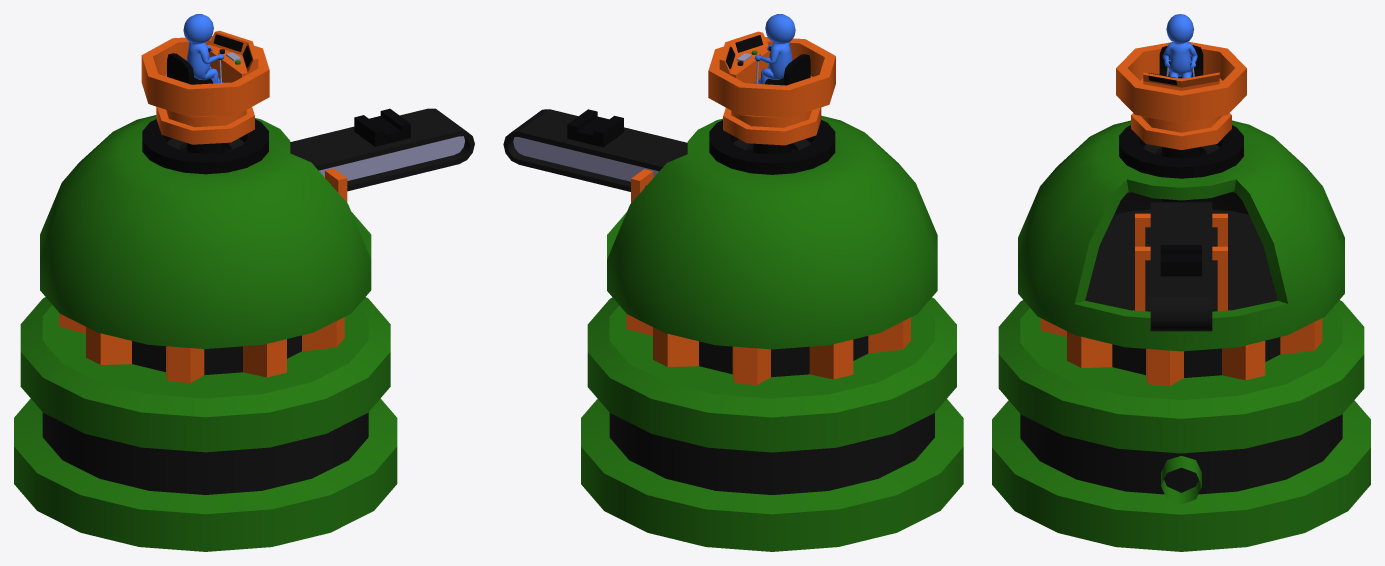
3 views of the same model, side by side, from view 1: azimuth 30°, elevation 25°; view 2: azimuth 150°, elevation 25°; view 3: azimuth 270°, elevation 25° (orthographic).
Parts seen in each view (by area): view 1: post grinder, post harvester, post operator, post gear, transporter 2, transporter 1, bot002, magnet, transporter last; view 2: post grinder, post harvester, post operator, post gear, transporter 2, transporter 1, bot002, magnet, transporter last; view 3: post grinder, post harvester, post operator, post gear, transporter 1, transporter last, transporter 2, bot002, magnet, grinder base.
Part boxes in pixels (x1,y1,x2,y2): post grinder: (14, 297, 397, 551); post harvester: (40, 115, 371, 348); post operator: (141, 30, 269, 153); post gear: (59, 313, 344, 382); transporter 2: (331, 108, 459, 187); transporter 1: (290, 132, 361, 191); bot002: (183, 14, 224, 83); magnet: (354, 108, 410, 146); transporter last: (429, 108, 474, 163); post grinder: (581, 297, 963, 551); post harvester: (607, 115, 937, 349); post operator: (708, 31, 835, 154); post gear: (626, 314, 910, 384); transporter 2: (519, 109, 646, 188); transporter 1: (616, 133, 687, 191); bot002: (753, 14, 795, 84); magnet: (567, 109, 623, 147); transporter last: (503, 109, 549, 164); post grinder: (992, 300, 1370, 551); post harvester: (1018, 120, 1344, 351); post operator: (1116, 41, 1246, 201); post gear: (1040, 318, 1322, 385); transporter 1: (1150, 203, 1212, 250); transporter last: (1150, 297, 1212, 331); transporter 2: (1150, 250, 1212, 297); bot002: (1162, 14, 1197, 78); magnet: (1160, 245, 1201, 276); grinder base: (1161, 456, 1201, 504).
Bounding box in the file's own units: 185 × 191 × 145.
